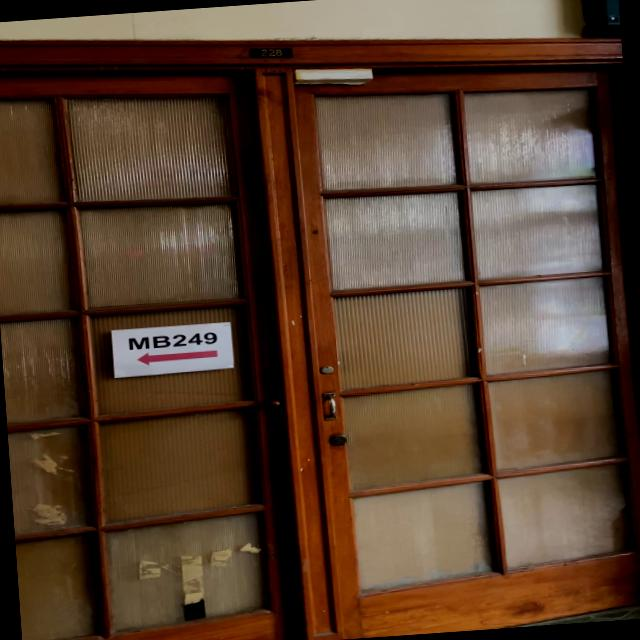room228: (246, 44, 293, 61)
